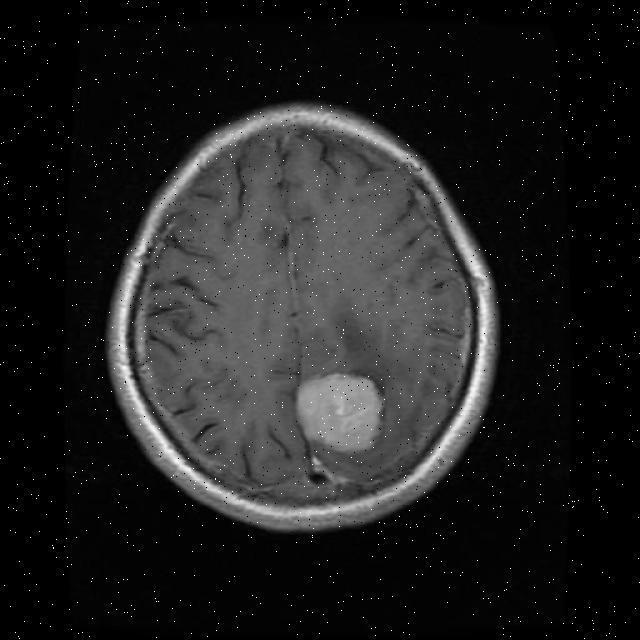Meningioma: (297, 375, 382, 453)
